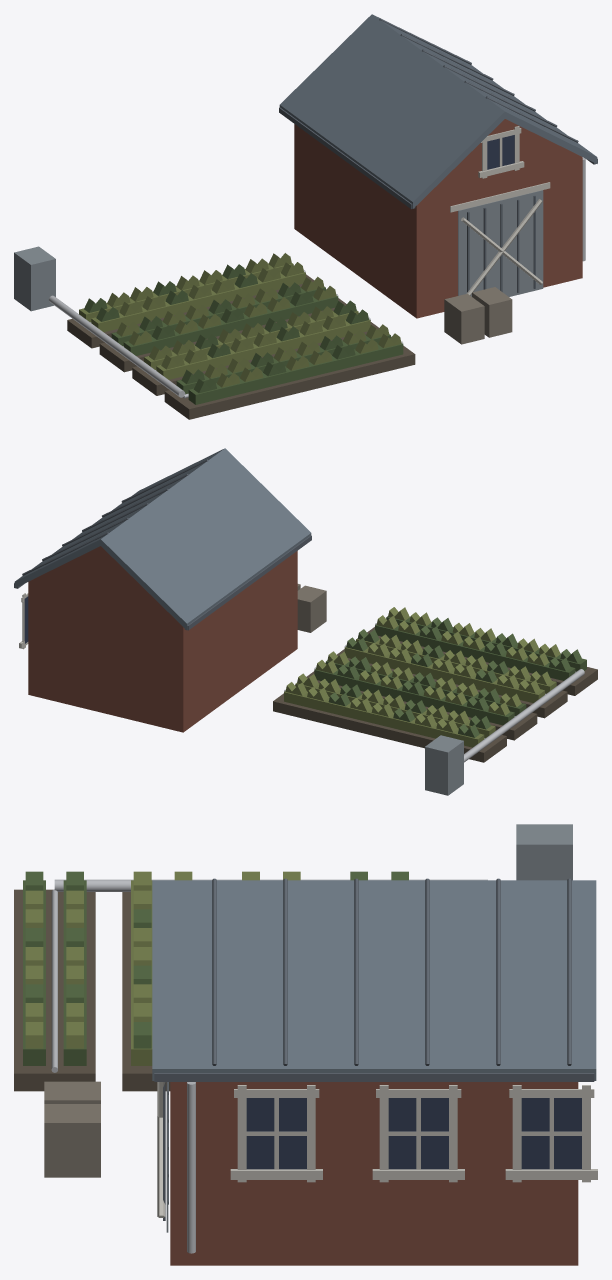
File: farm_lvl1.glb
3 renders of one model, top to bottom at view 1: azimuth 30°, elevation 25°; view 2: azimuth 150°, elevation 25°; view 3: azimuth 270°, elevation 25°, orthographic. The views are drawn at different scales.
Visible parts, largest first — view 1: farm; view 2: farm; view 3: farm.
Boxes of the visible parts, left/top/right/bottom form: farm: left=14, top=14, right=597, bottom=419; farm: left=14, top=448, right=597, bottom=795; farm: left=14, top=824, right=597, bottom=1265.
Bounding box in the file's own units: 0.8786 × 0.3517 × 0.5819.
